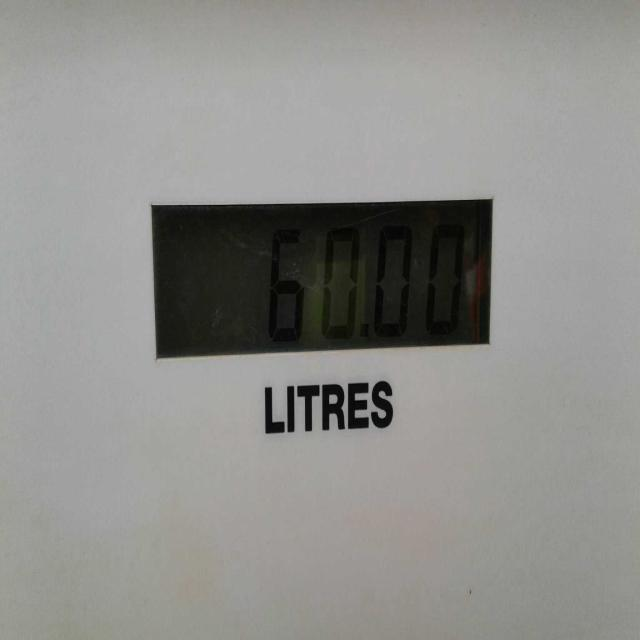.: (354, 318, 372, 356)
0: (421, 213, 472, 338), (370, 215, 418, 347), (317, 218, 360, 344)
6: (264, 217, 310, 347)
